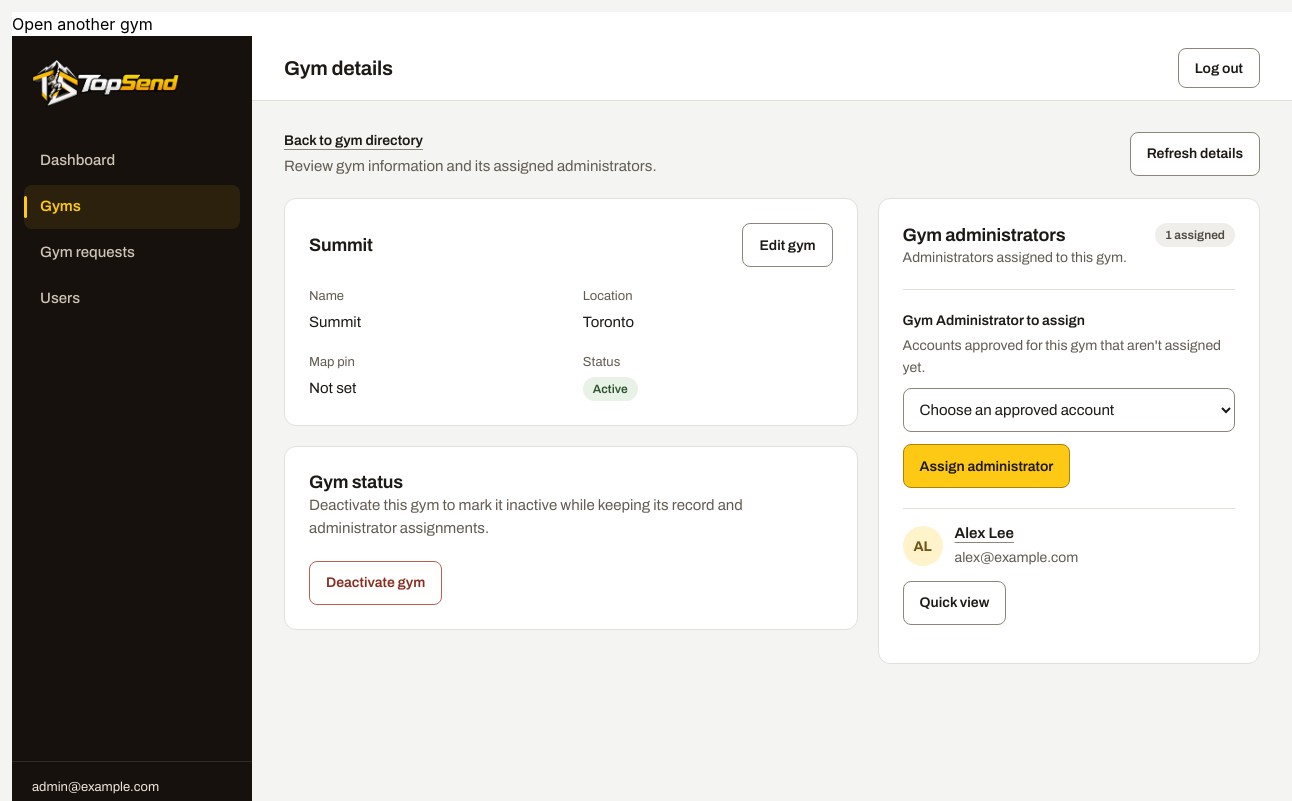
Test case: US-006 #36/#37, FR-003, AC-006 › assigns the chosen account to only the selected gym and updates the confirmed list and count
The width and height of the screenshot is (1292, 801).
Select "Jordan Smith (jordan@example.com)" in the dropdown labelled "Gym Administrator to assign" at (1069, 410), box [903, 388, 1235, 432]
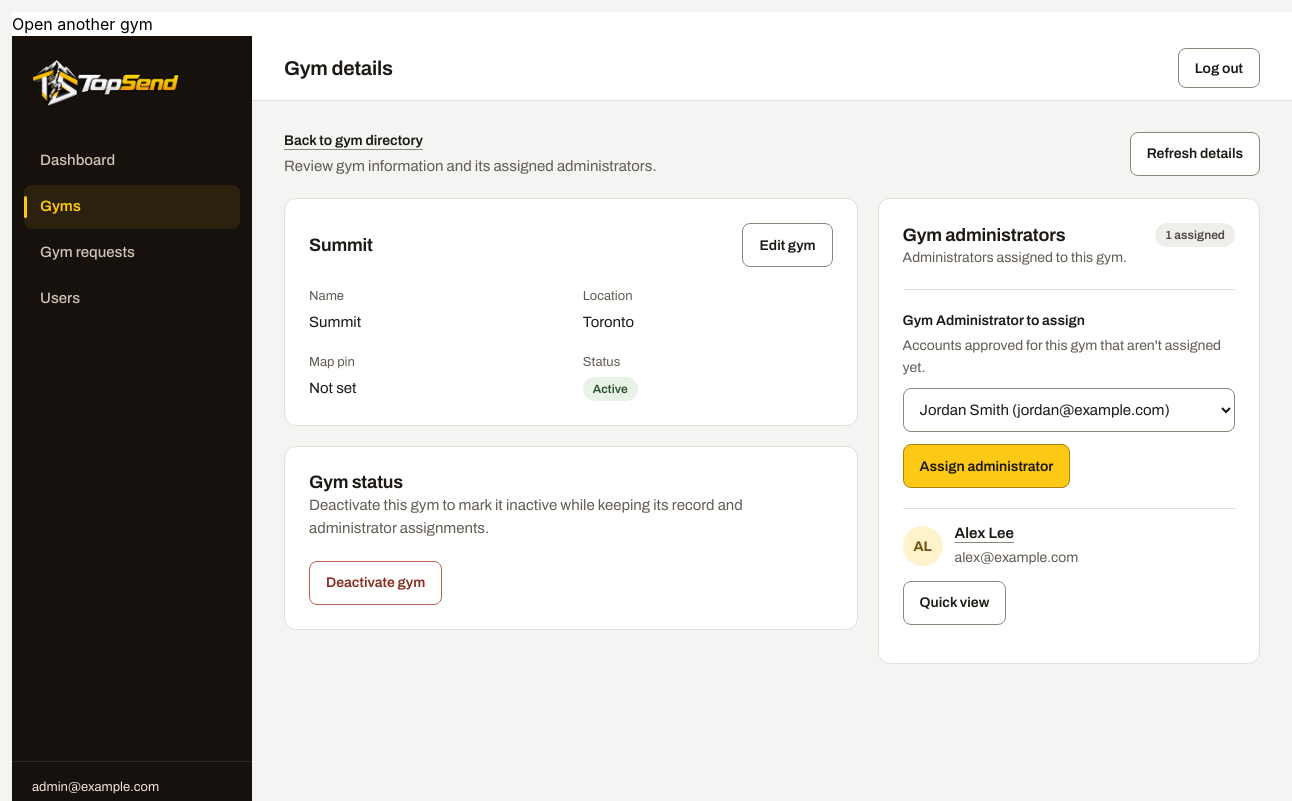
Submit the form named "Assign Gym Administrator", box [903, 289, 1235, 488]
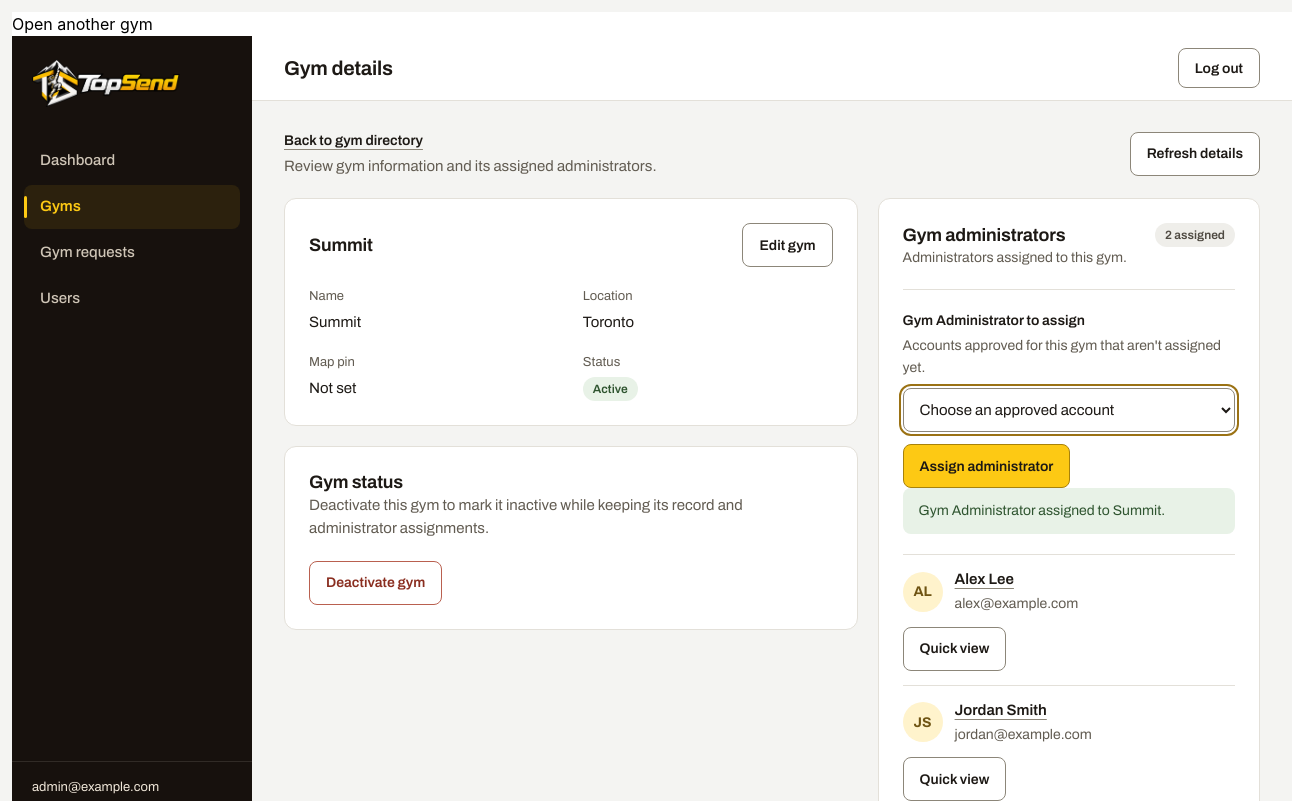
expect the text "Gym Administrator assigned to Summit." is shown: met, box [903, 488, 1235, 534]
expect the link "Jordan Smith" is shown: met, box [955, 702, 1047, 718]
expect the text "2 assigned" is shown: met, box [1155, 223, 1235, 247]
